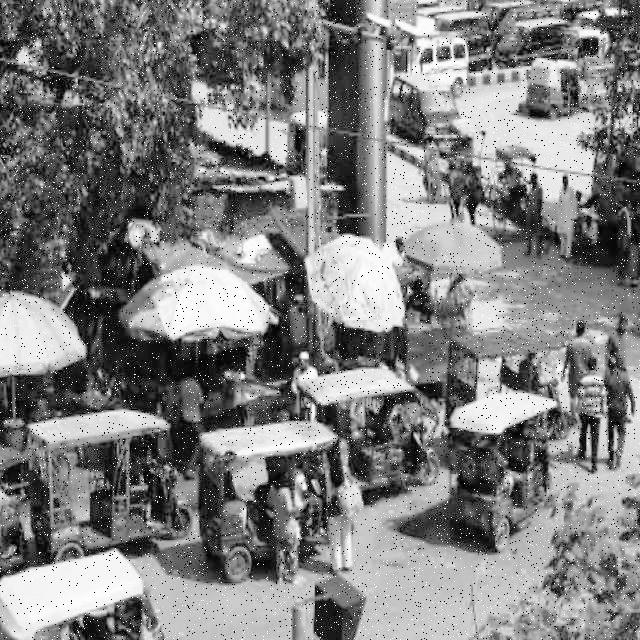Toto: (28, 407, 194, 558), (205, 420, 349, 580), (451, 391, 558, 557), (303, 365, 442, 492)
